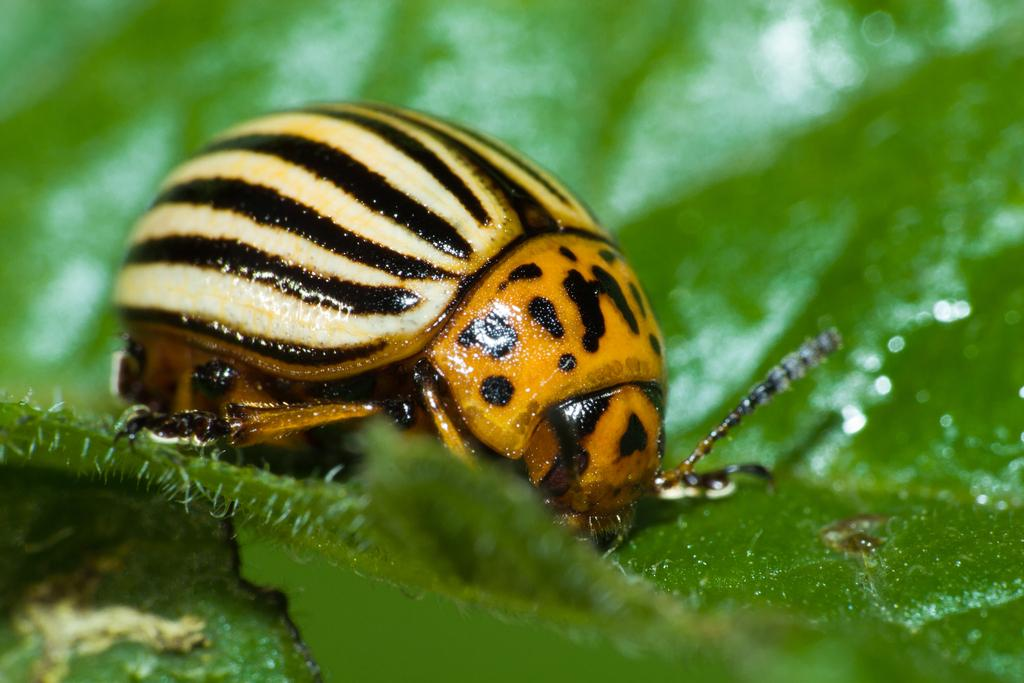potato_beetle: (20, 43, 886, 608)
